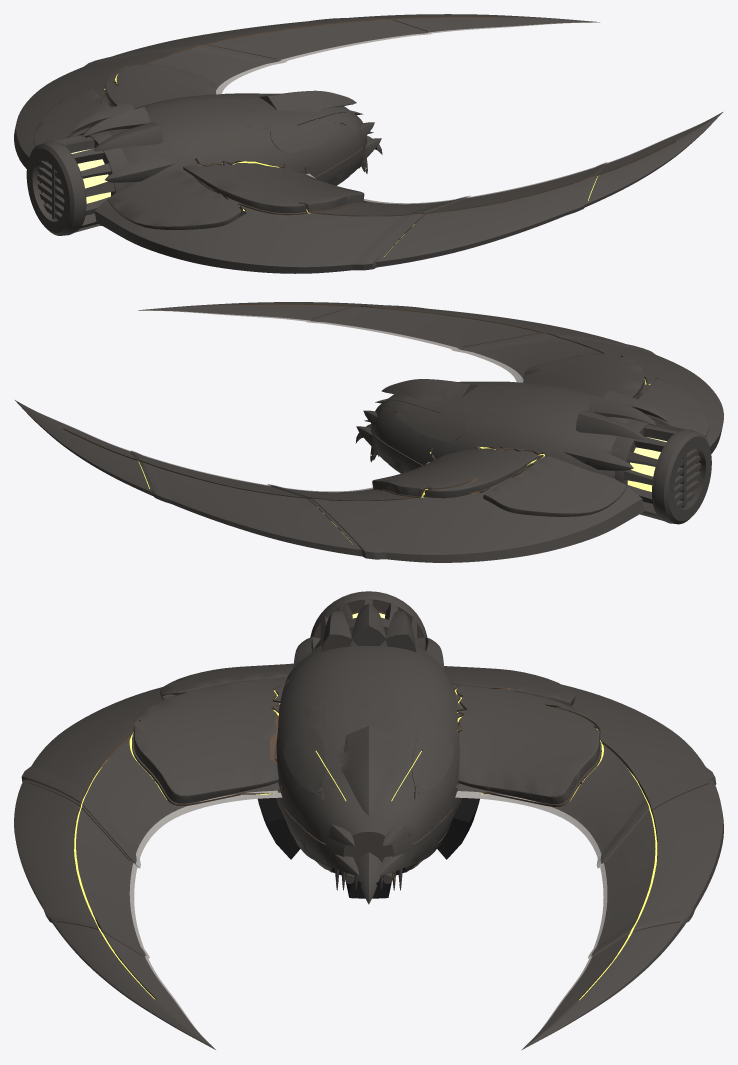
The model's file is reaper.fbx.
The picture shows the model from 3 angles, top to bottom: view 1: azimuth 30°, elevation 25°; view 2: azimuth 150°, elevation 25°; view 3: azimuth 270°, elevation 25°; orthographic projection. The views are drawn at different scales.
Visible parts, largest first — view 1: Reaper_Body; view 2: Reaper_Body; view 3: Reaper_Body.
Part boxes in pixels (left/top/right/bottom): Reaper_Body: left=14, top=14, right=722, bottom=273; Reaper_Body: left=15, top=302, right=723, bottom=562; Reaper_Body: left=14, top=591, right=723, bottom=1050.
Size of the model in its own units: 14.02 by 3.14 by 11.22.
